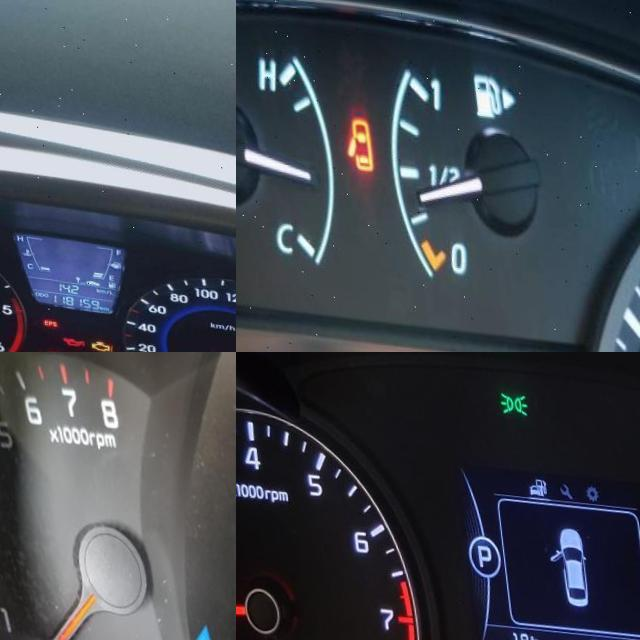SideLamp: (493, 381, 523, 410)
